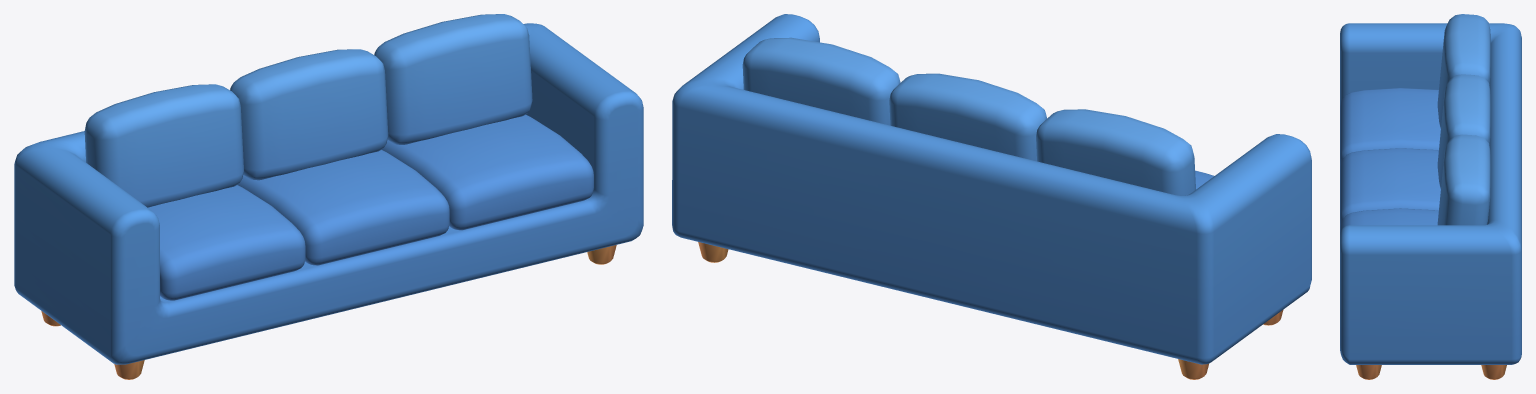
File: Sillon_Grande.fbx
3 views of the same model, side by side, from view 1: azimuth 30°, elevation 25°; view 2: azimuth 150°, elevation 25°; view 3: azimuth 270°, elevation 25° (orthographic). The views are drawn at different scales.
Visible parts, largest first — view 1: Couch_08; view 2: Couch_08; view 3: Couch_08.
Boxes of the visible parts, bbox=[...] form: Couch_08: bbox=[14, 14, 643, 379]; Couch_08: bbox=[672, 14, 1311, 379]; Couch_08: bbox=[1340, 14, 1521, 379].
Bounding box in the file's own units: 221 × 86.21 × 76.5.
